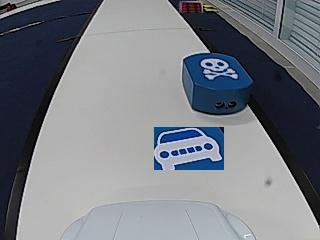danger: (201, 58, 236, 80)
